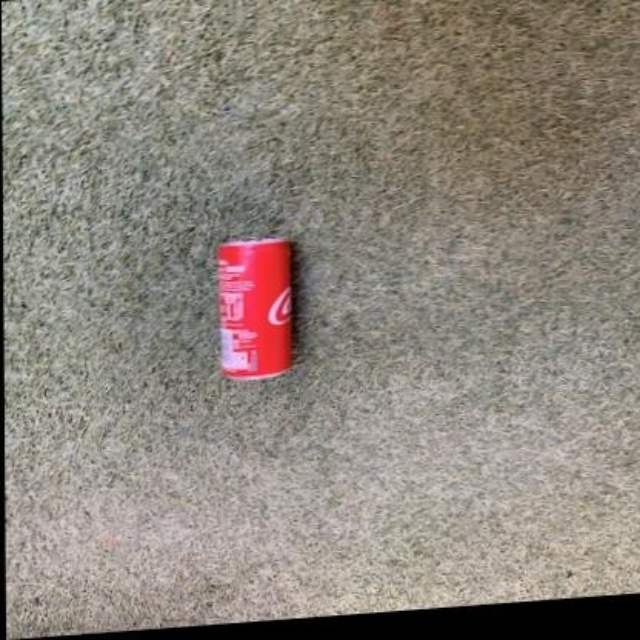trash: (217, 238, 291, 377)
